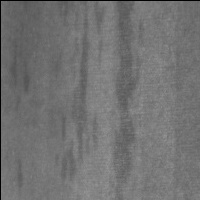inclusion: (108, 4, 147, 196), (58, 3, 99, 174), (55, 113, 76, 185), (7, 36, 30, 100), (10, 158, 29, 194)
